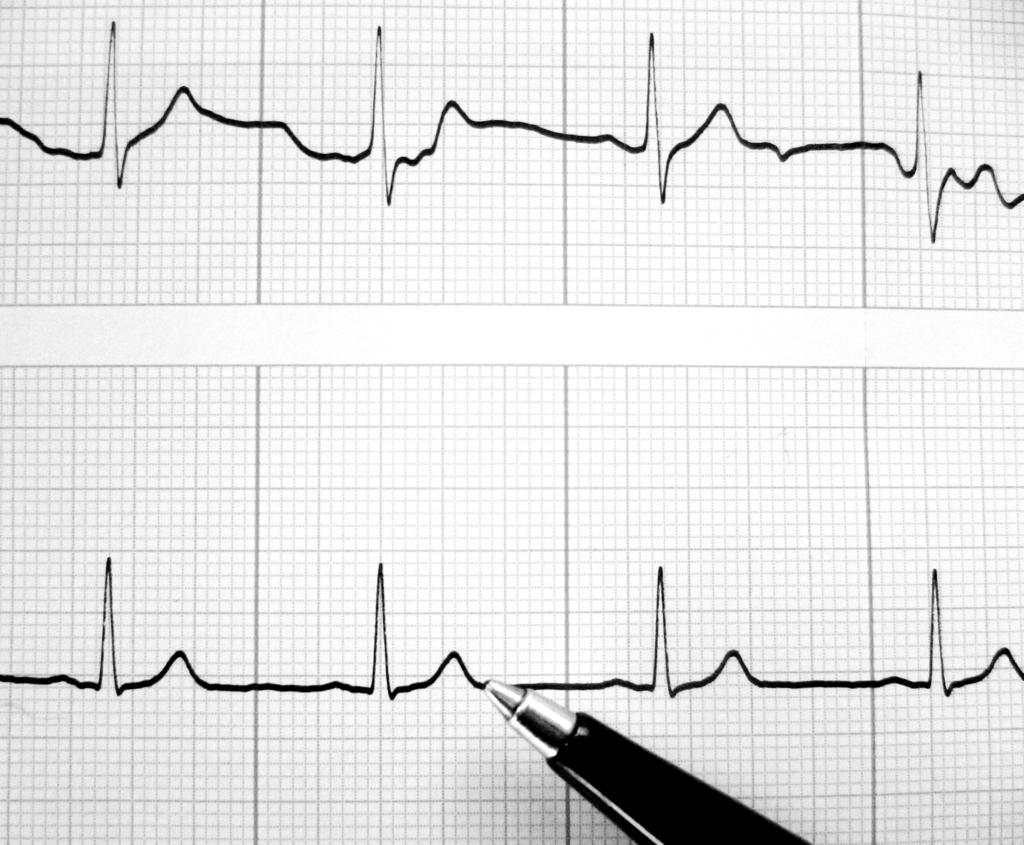pen: (479, 677, 817, 844)
